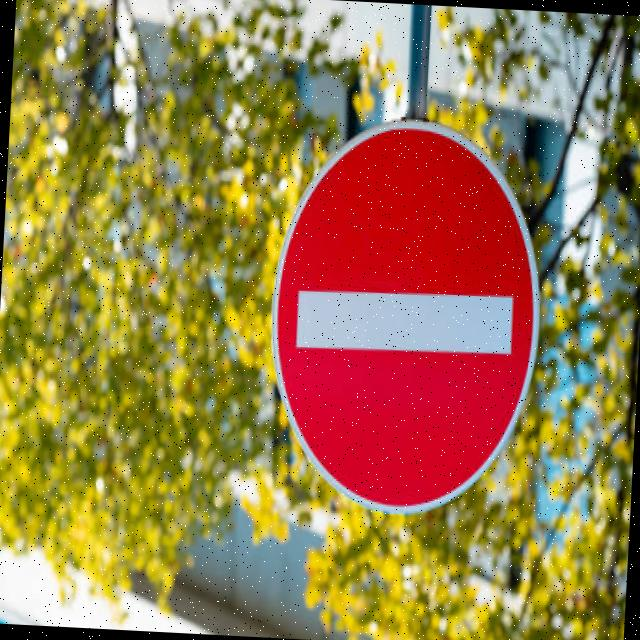do_not_enter: (259, 105, 542, 538)
